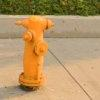a fire hydrant: (22, 19, 48, 89)
